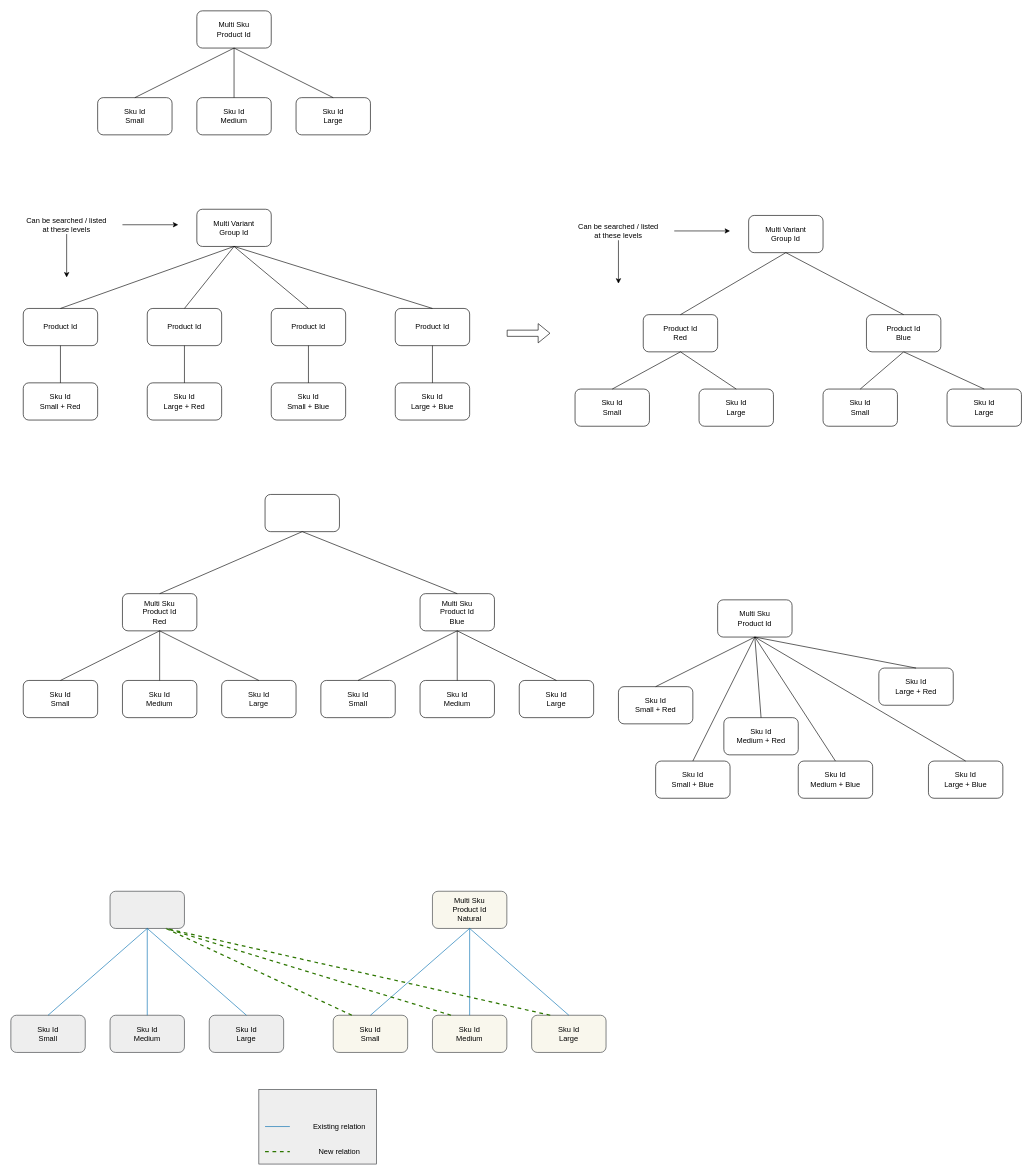
Image size: 1032x1175. Some labels were removed from this diagram. The box of each missing label's shape, as (x1, y1, x2, y2) in pixels:
Index: (258, 1089, 377, 1164)
Multi Sku Product Id Grey: (109, 891, 184, 928)
Multi Variant Group Id?: (264, 494, 339, 532)
